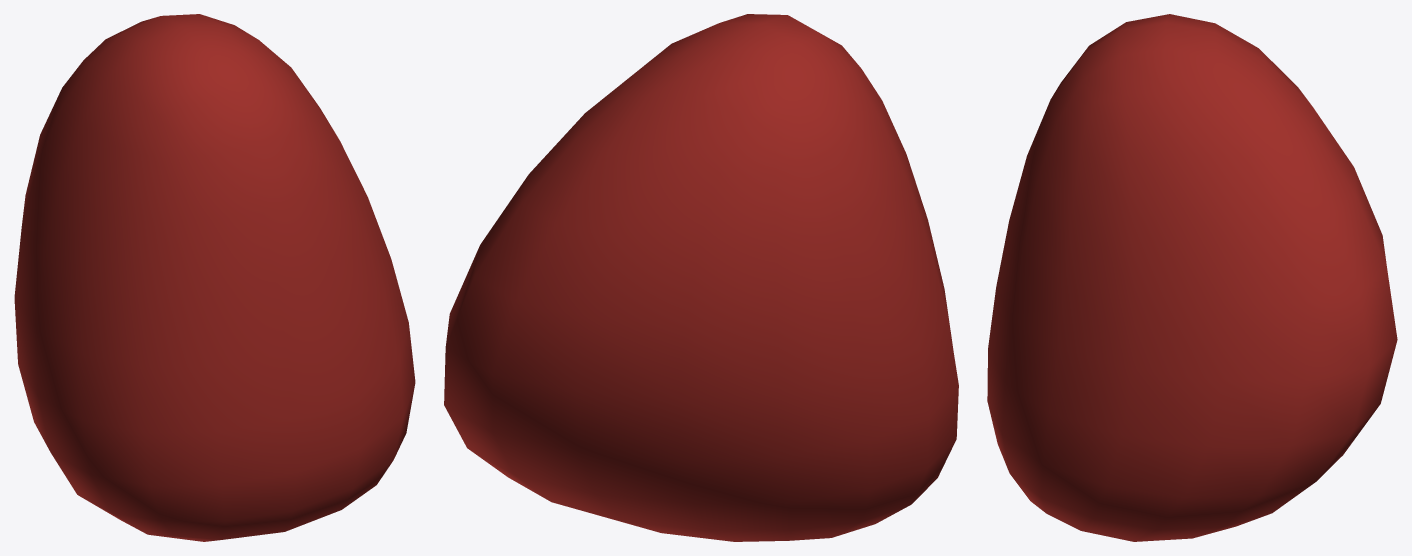
Rendered from Organic_Blob_001.fbx.
3 views of the same model, side by side, from view 1: azimuth 30°, elevation 25°; view 2: azimuth 150°, elevation 25°; view 3: azimuth 270°, elevation 25° (orthographic). The views are drawn at different scales.
Parts seen in each view (by area): view 1: Cube.010; view 2: Cube.010; view 3: Cube.010.
Boxes of the visible parts, left/top/right/bottom form: Cube.010: left=14, top=14, right=415, bottom=541; Cube.010: left=444, top=14, right=958, bottom=541; Cube.010: left=987, top=14, right=1397, bottom=541.
Size of the model in its own units: 873 by 1065 by 852.
